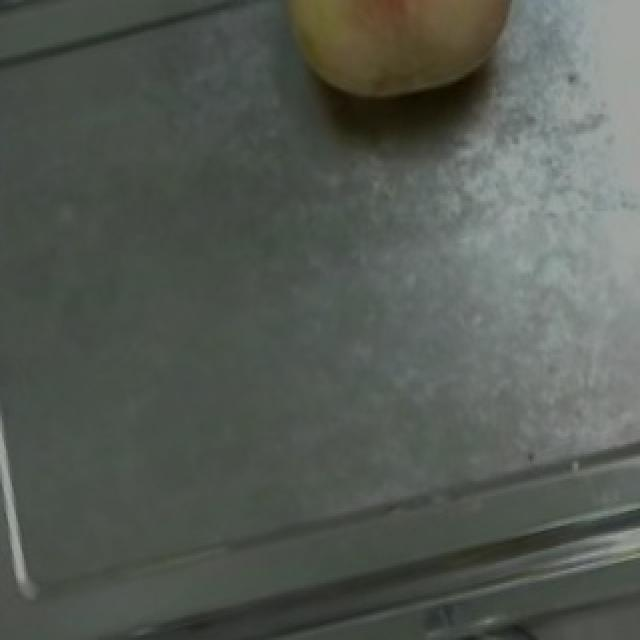Fruit: (250, 0, 536, 134)
